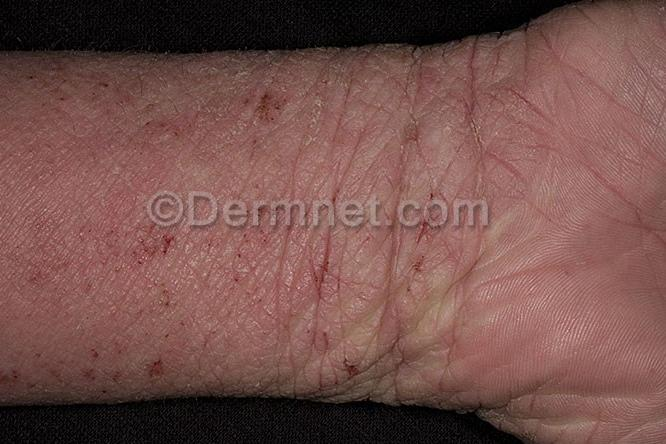Eritema 2: (0, 32, 335, 444)
exudaacion 1: (312, 296, 369, 381)
exudacion 1: (0, 297, 177, 402), (121, 220, 331, 298), (390, 179, 443, 294), (234, 77, 290, 131)
liquenificacion 3: (277, 22, 550, 444)
xerosis 2: (0, 27, 334, 146)
